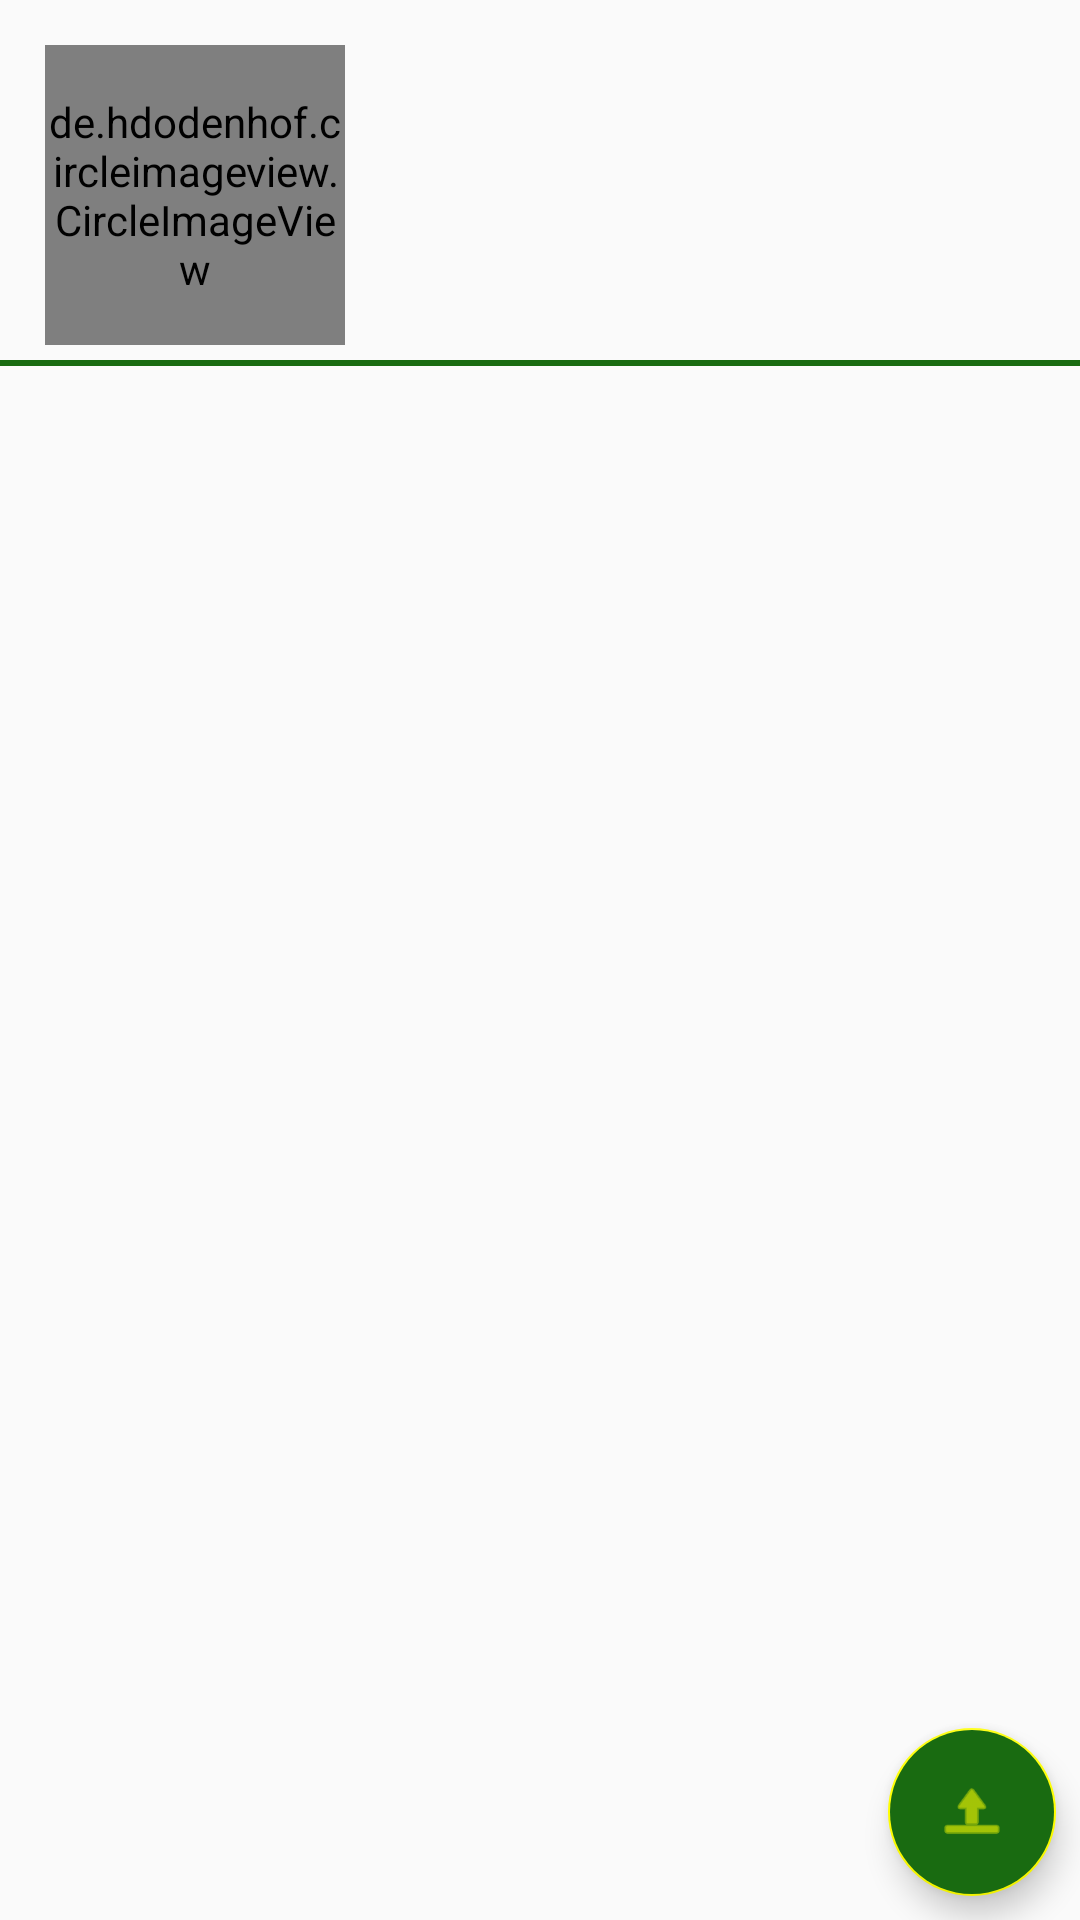

Where to tap for icons on this 1080x1920 app screen, as [x,y]:
upload you tube: [972,1812]
